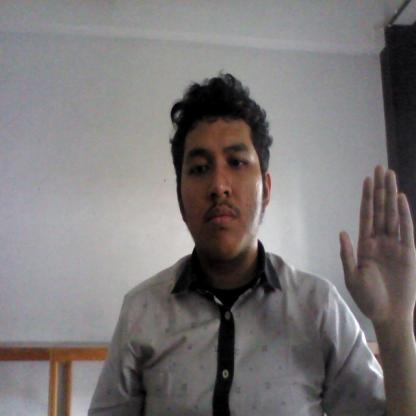Halo: (338, 160, 416, 352)
